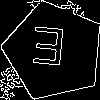E: (28, 26, 67, 75)
